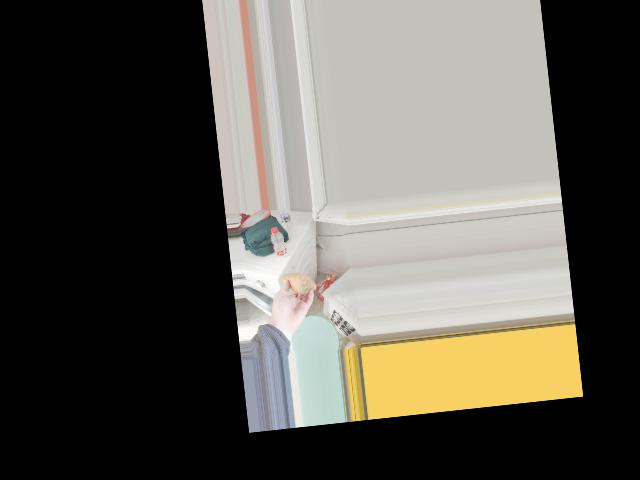sweet_potato: (282, 270, 313, 299)
